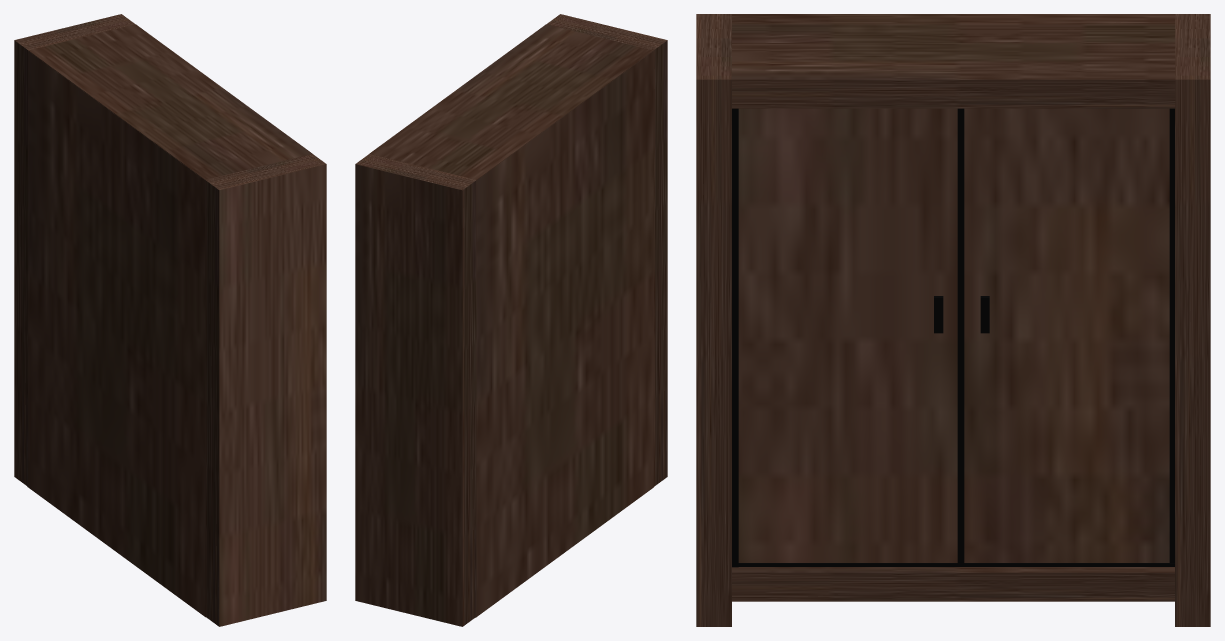
The model's file is lemari_gelap.gltf.
The picture shows the model from 3 angles, left to right: view 1: azimuth 30°, elevation 25°; view 2: azimuth 150°, elevation 25°; view 3: azimuth 270°, elevation 25°; orthographic projection. The views are drawn at different scales.
Parts seen in each view (by area): view 1: Cube.013, Cube.008, Cube.010, Cube.012; view 2: Cube.013, Cube.012, Cube.010, Cube.008; view 3: Cube.011, Cube.010, Cube.008, Cube.012, Cube.006, Cube.016, Cube.017, Cube.018, Cube.019.
Part boxes in pixels (x1,y1,x2,y2): Cube.013: (27, 51, 205, 617); Cube.008: (205, 154, 326, 626); Cube.010: (28, 24, 312, 179); Cube.012: (14, 14, 134, 486); Cube.013: (475, 51, 653, 617); Cube.012: (355, 154, 476, 626); Cube.010: (369, 24, 653, 179); Cube.008: (546, 14, 667, 486); Cube.011: (738, 108, 1169, 562); Cube.010: (732, 14, 1175, 108); Cube.008: (696, 14, 731, 626); Cube.012: (1175, 14, 1210, 626); Cube.006: (732, 567, 1174, 601); Cube.016: (957, 108, 964, 566); Cube.017: (732, 108, 738, 567); Cube.018: (1169, 108, 1174, 562); Cube.019: (738, 563, 1174, 566).
Size of the model in its own units: 1.72 by 6.67 by 5.67.
13 materials, 13 textured.
